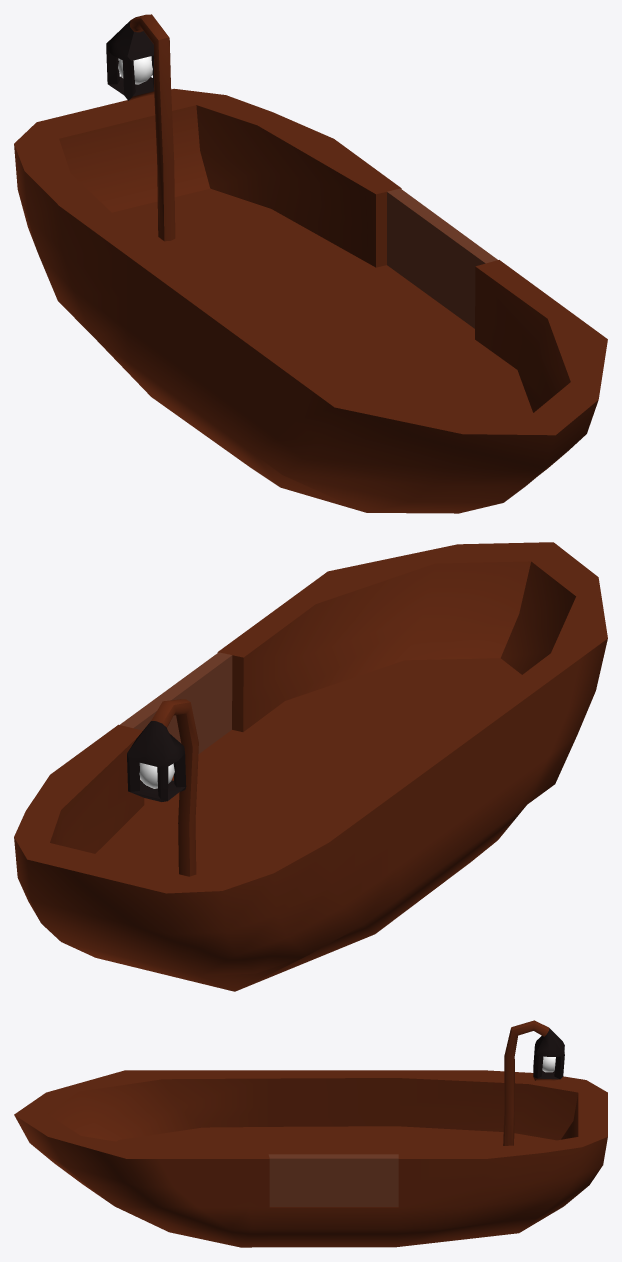
File: Boat.FBX
3 views of the same model, one above another, from view 1: azimuth 30°, elevation 25°; view 2: azimuth 150°, elevation 25°; view 3: azimuth 270°, elevation 25° (orthographic). The views are drawn at different scales.
Visible parts, largest first — view 1: Body, Door; view 2: Body, Door; view 3: Body, Door.
Boxes of the visible parts, x1=… form: Body: x1=14, y1=14, x2=607, y2=513; Door: x1=387, y1=188, x2=497, y2=328; Body: x1=14, y1=542, x2=607, y2=991; Door: x1=120, y1=652, x2=232, y2=754; Body: x1=14, y1=1020, x2=607, y2=1247; Door: x1=268, y1=1154, x2=398, y2=1206.
Bounding box in the file's own units: 5.26 × 5.13 × 14.87.
